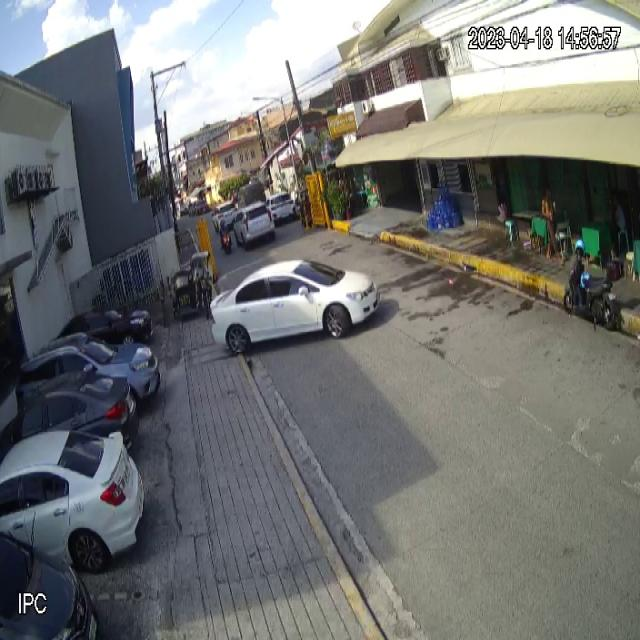Car: (210, 260, 380, 354)
Motorcycle: (564, 249, 625, 332)
Tricycle: (170, 250, 211, 320)
